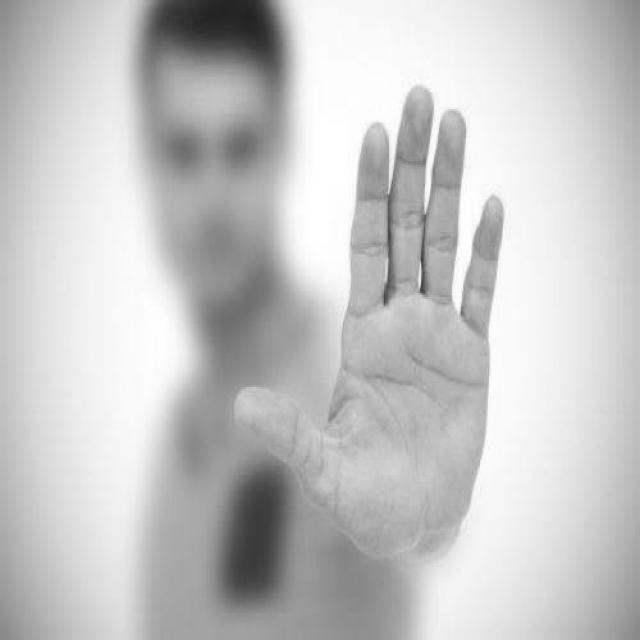stop: (230, 75, 508, 564)
